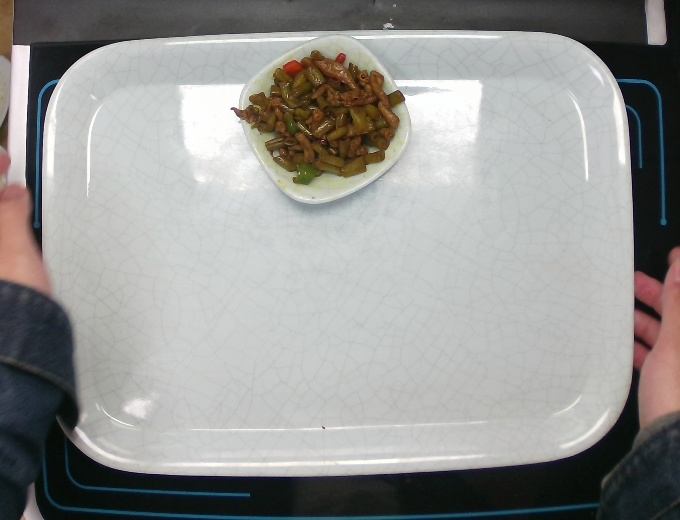JYsf-Si_Fang_Die: (231, 20, 425, 213)
